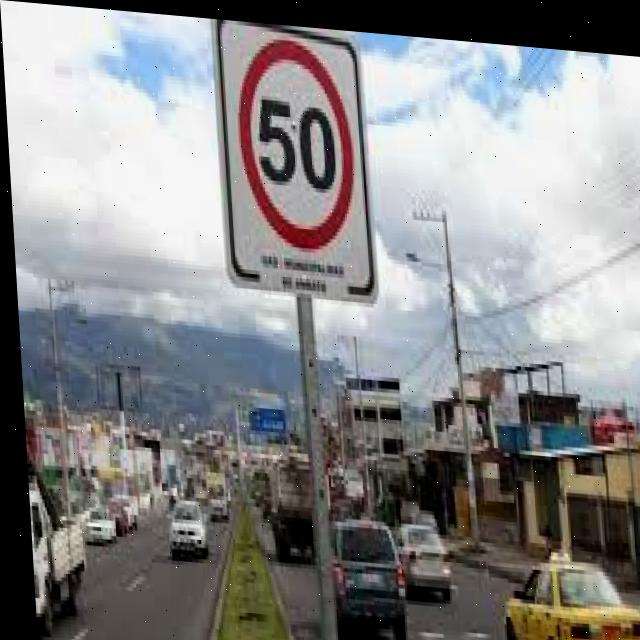Speed limit 50: (210, 16, 377, 298)
